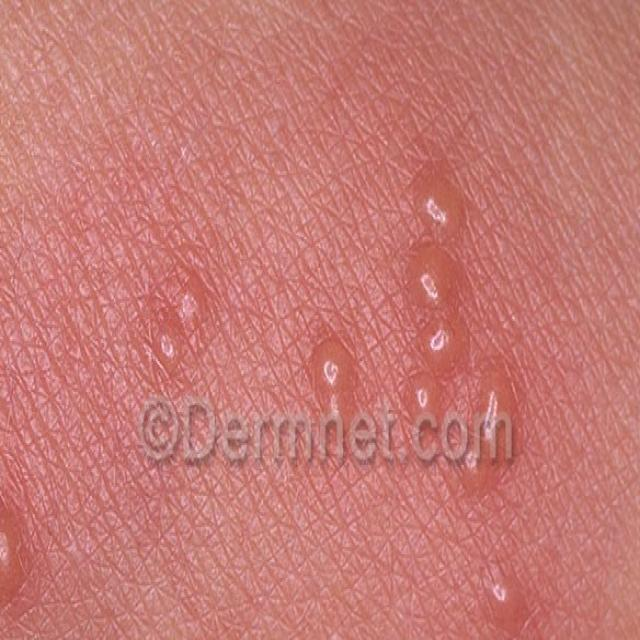Viral Infections: (396, 145, 533, 486), (139, 270, 215, 401), (298, 329, 359, 450), (466, 554, 548, 640), (0, 470, 37, 616)
